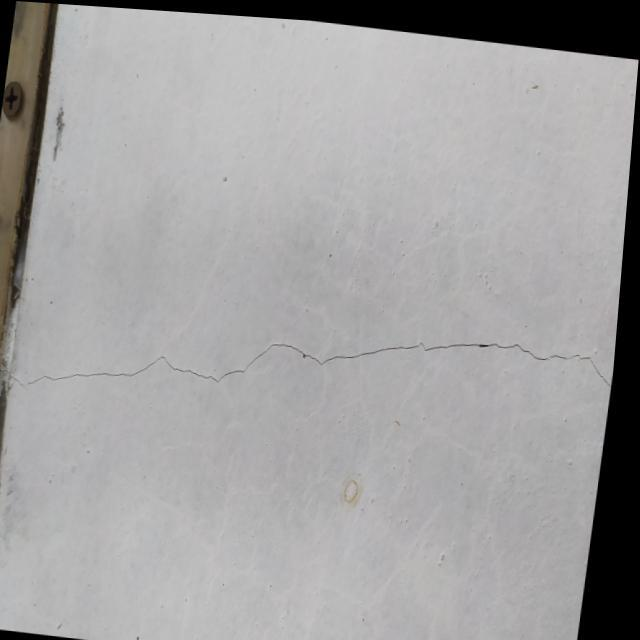Crack: (21, 332, 608, 389)
